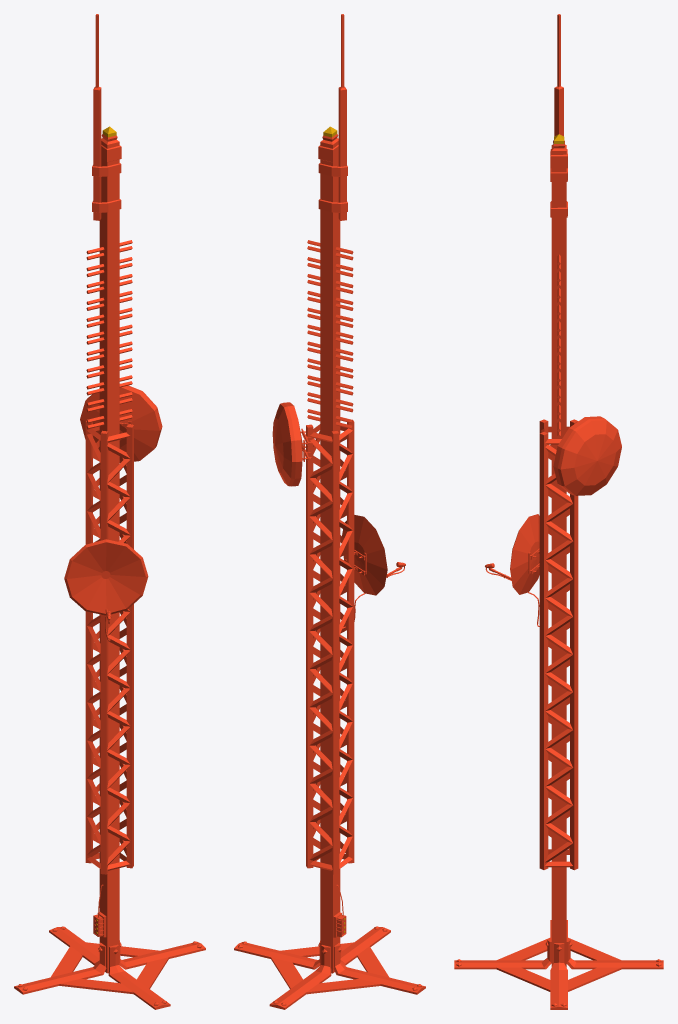
Rendered from SM_Antenna_B_City.fbx.
3 renders of one model, left to right at view 1: azimuth 30°, elevation 25°; view 2: azimuth 150°, elevation 25°; view 3: azimuth 270°, elevation 25°, orthographic.
Parts seen in each view (by area): view 1: SM_Antenna_B_City; view 2: SM_Antenna_B_City; view 3: SM_Antenna_B_City.
Part boxes in pixels (x1=…): SM_Antenna_B_City: x1=14, y1=14, x2=205, y2=1009; SM_Antenna_B_City: x1=234, y1=14, x2=425, y2=1009; SM_Antenna_B_City: x1=454, y1=14, x2=663, y2=1009.
Size of the model in its own units: 2.53 by 12.64 by 2.54.
